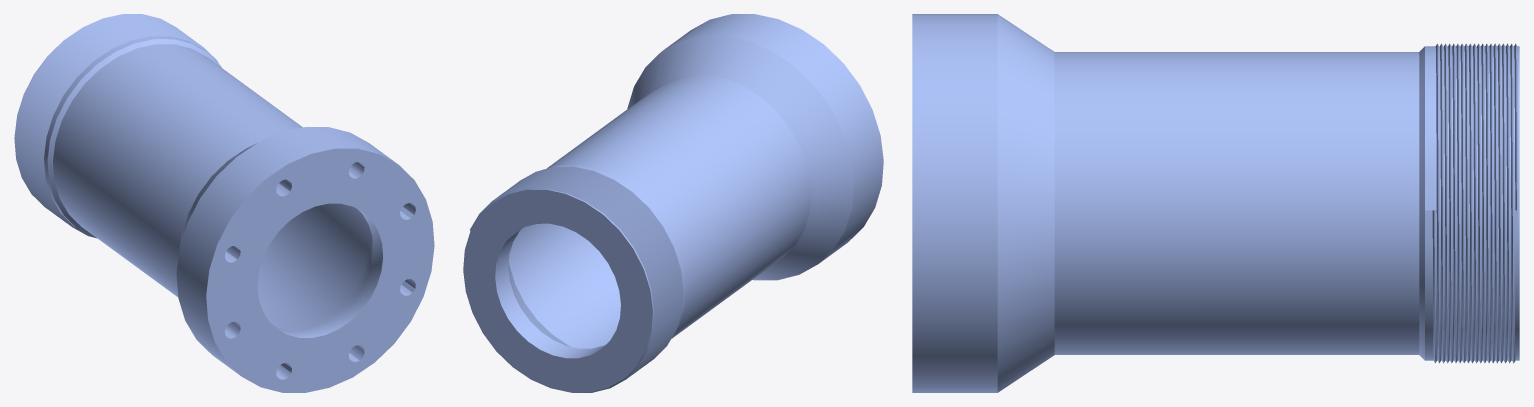
Rendered from corpus.gltf.
3 views of the same model, side by side, from view 1: azimuth 30°, elevation 25°; view 2: azimuth 150°, elevation 25°; view 3: azimuth 270°, elevation 25° (orthographic). The views are drawn at different scales.
Visible parts, largest first — view 1: Box02; view 2: Box02; view 3: Box02.
Part boxes in pixels (bbox=[...]): Box02: bbox=[14, 14, 434, 392]; Box02: bbox=[463, 14, 883, 392]; Box02: bbox=[912, 14, 1519, 392].
Size of the model in its own units: 5.08 by 5.06 by 8.13.
